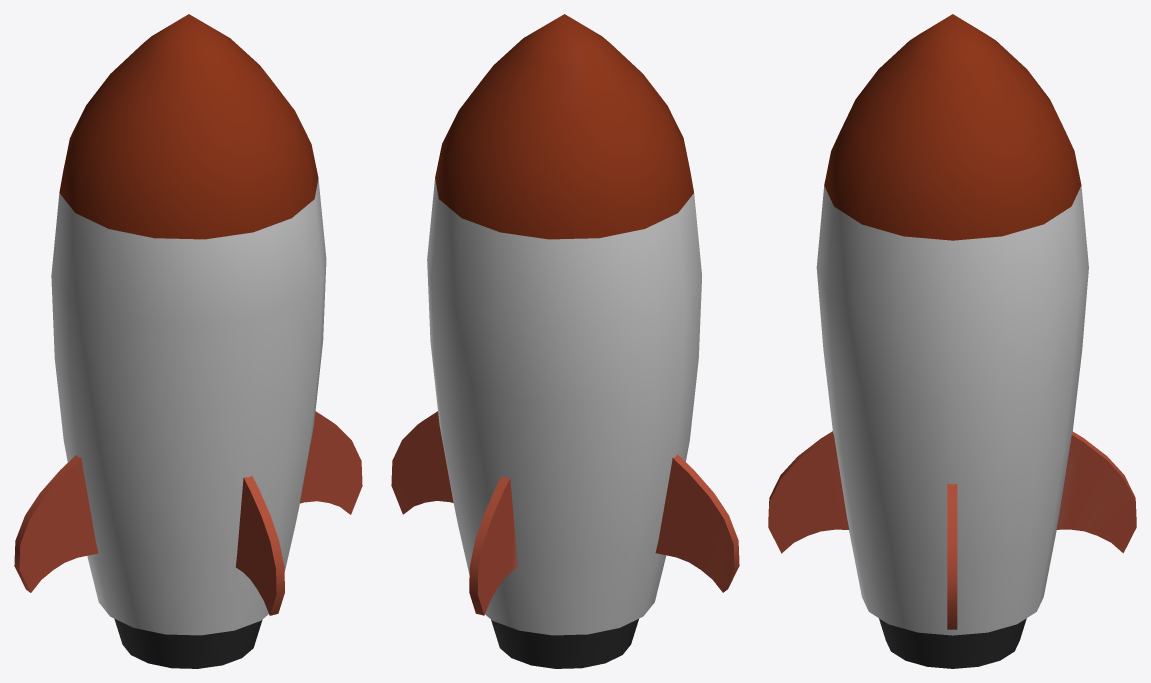
Rendered from MisselMedio.fbx.
The picture shows the model from 3 angles, left to right: view 1: azimuth 30°, elevation 25°; view 2: azimuth 150°, elevation 25°; view 3: azimuth 270°, elevation 25°; orthographic projection.
Parts seen in each view (by area): view 1: MisselMedio; view 2: MisselMedio; view 3: MisselMedio.
Part boxes in pixels (<box>): MisselMedio: <box>14,14,362,668</box>; MisselMedio: <box>391,14,739,668</box>; MisselMedio: <box>768,14,1136,668</box>.
Bounding box in the file's own units: 104 × 182 × 96.91.
